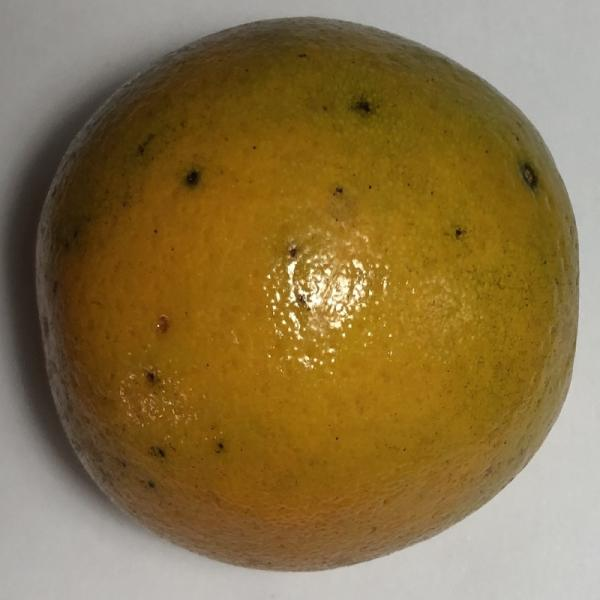Machas negras: (23, 0, 594, 578)
